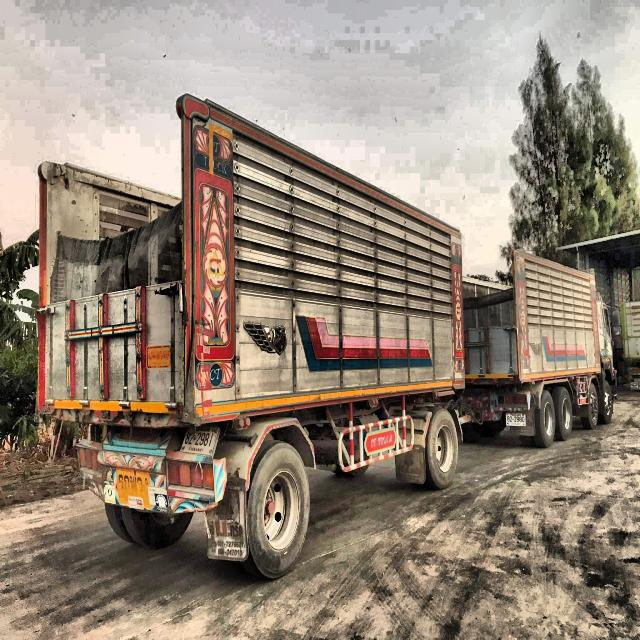trailer: (28, 91, 624, 589)
